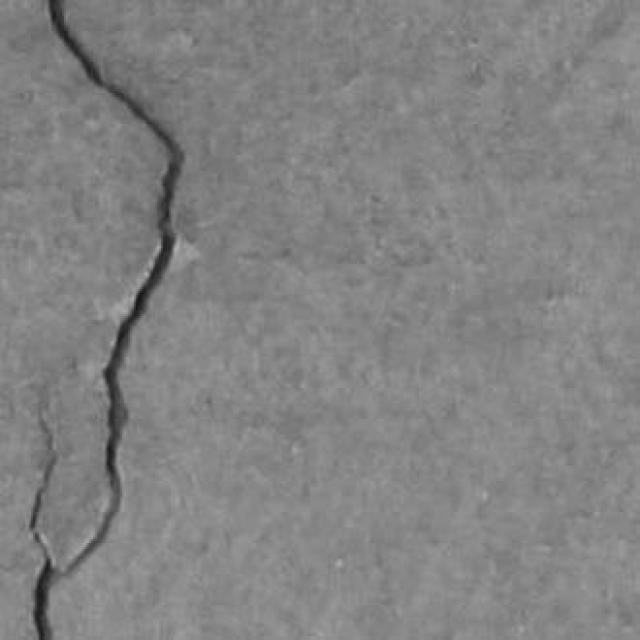crack: (30, 0, 184, 639), (30, 406, 58, 639)
